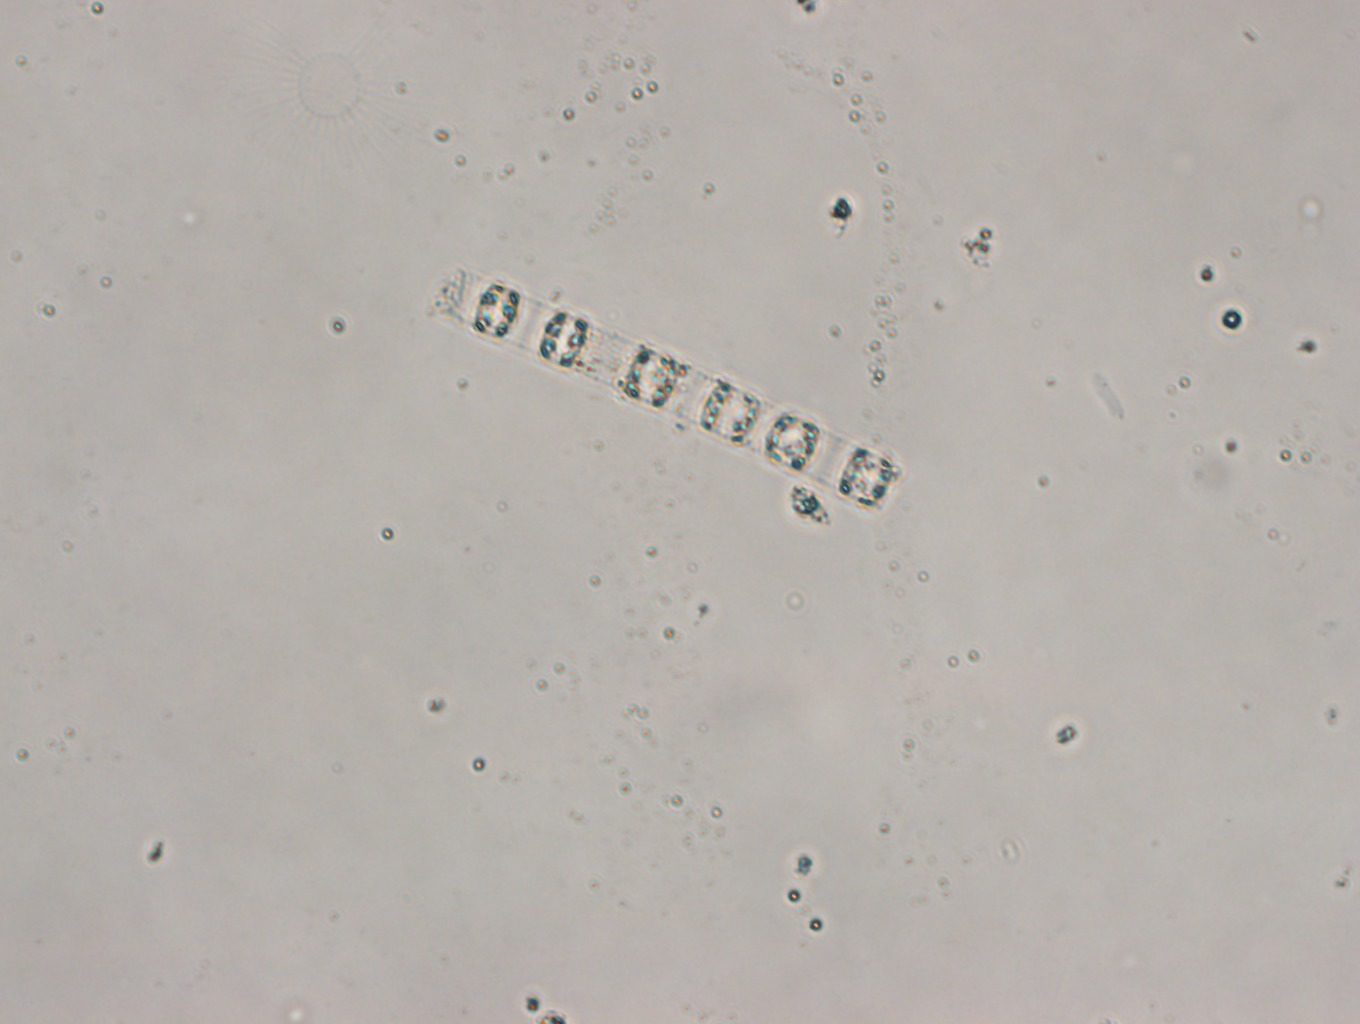skeletonema: (433, 265, 908, 515)
